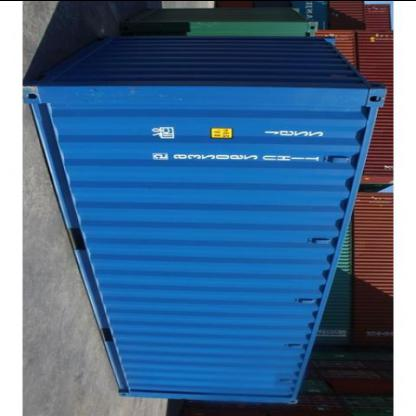Damage: (57, 80, 207, 110), (265, 371, 285, 389)
